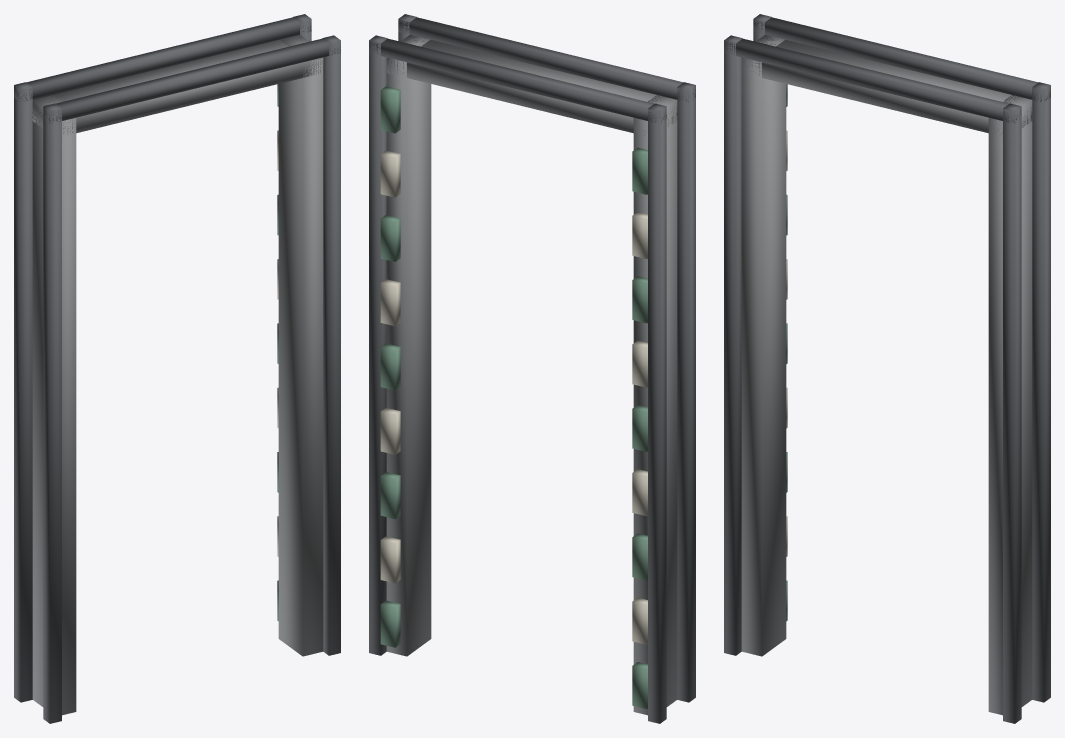
The model's file is doorway_tile_return_w86_h210_d16.glb.
3 renders of one model, left to right at view 1: azimuth 30°, elevation 25°; view 2: azimuth 150°, elevation 25°; view 3: azimuth 330°, elevation 25°, orthographic.
Visible parts, largest first — view 1: world; view 2: world; view 3: world.
Boxes of the visible parts, x1,y1,x2,y2 form: world: (14, 14, 340, 723); world: (369, 14, 695, 723); world: (724, 14, 1050, 723).
Size of the model in its own units: 1.1 by 2.22 by 0.2407.
